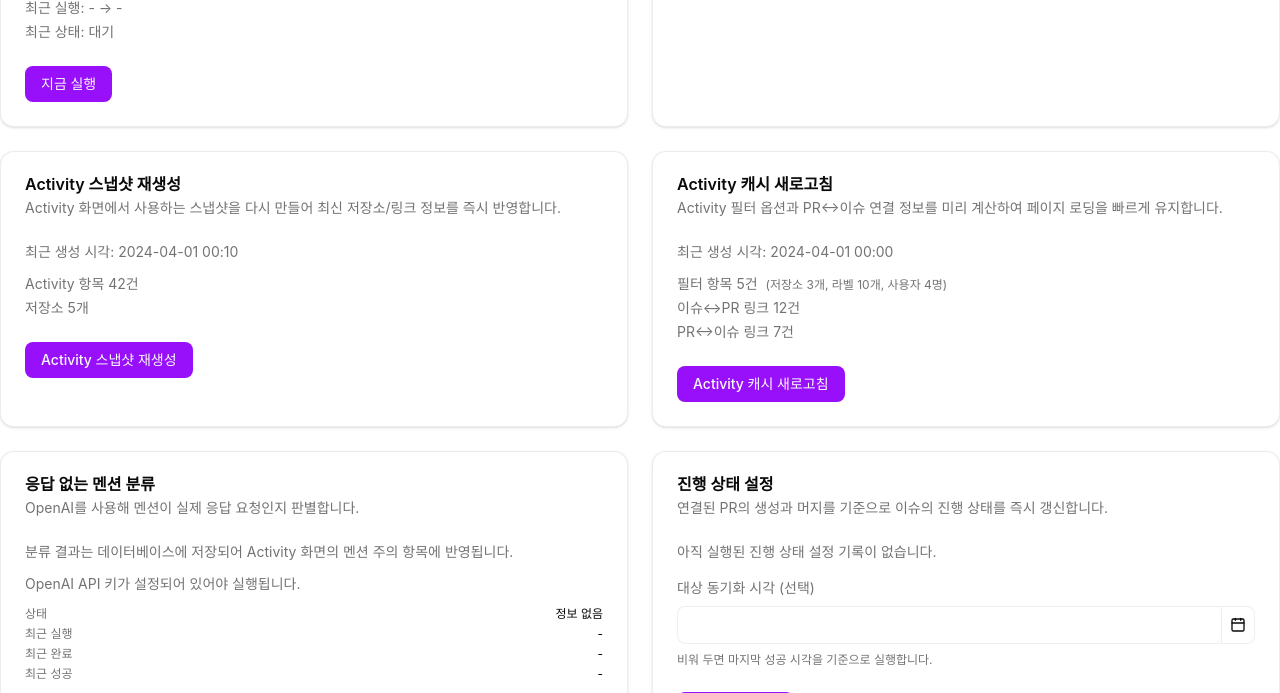
SyncControls › allows rebuilding the Activity snapshot
(page scrolled)
Step 1. Click the button "Activity 스냅샷 재생성" → click(109, 360), box x1=25 y1=342 x2=193 y2=378
(page scrolled)
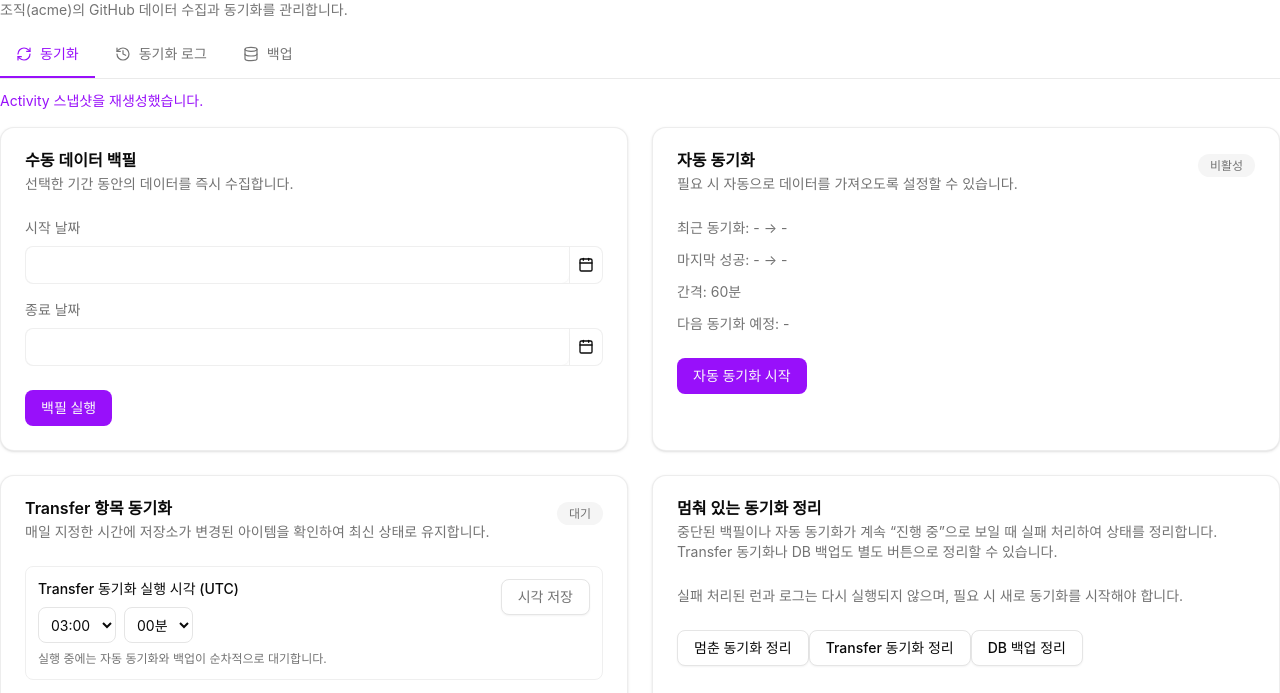
Expected: the text "Activity 스냅샷을 재생성했습니다." is shown, x1=0 y1=92 x2=203 y2=109
